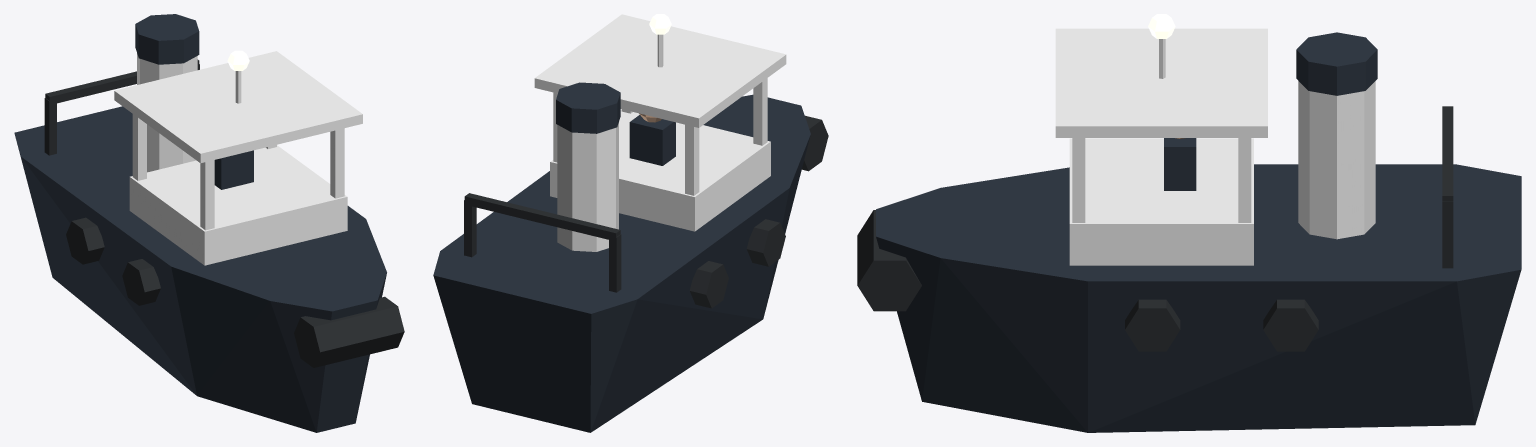
The model's file is tug.glb.
3 renders of one model, left to right at view 1: azimuth 30°, elevation 25°; view 2: azimuth 150°, elevation 25°; view 3: azimuth 270°, elevation 25°, orthographic. The views are drawn at different scales.
Visible parts, largest first — view 1: Body, Captain; view 2: Body, Captain; view 3: Body, Captain.
Part boxes in pixels (<box>): Body: <box>14,14,404,432</box>; Captain: <box>214,150,253,189</box>; Body: <box>433,14,828,432</box>; Captain: <box>629,113,675,165</box>; Body: <box>857,28,1521,432</box>; Captain: <box>1164,138,1196,190</box>.
Size of the model in its own units: 3.35 by 4.5 by 7.2.
